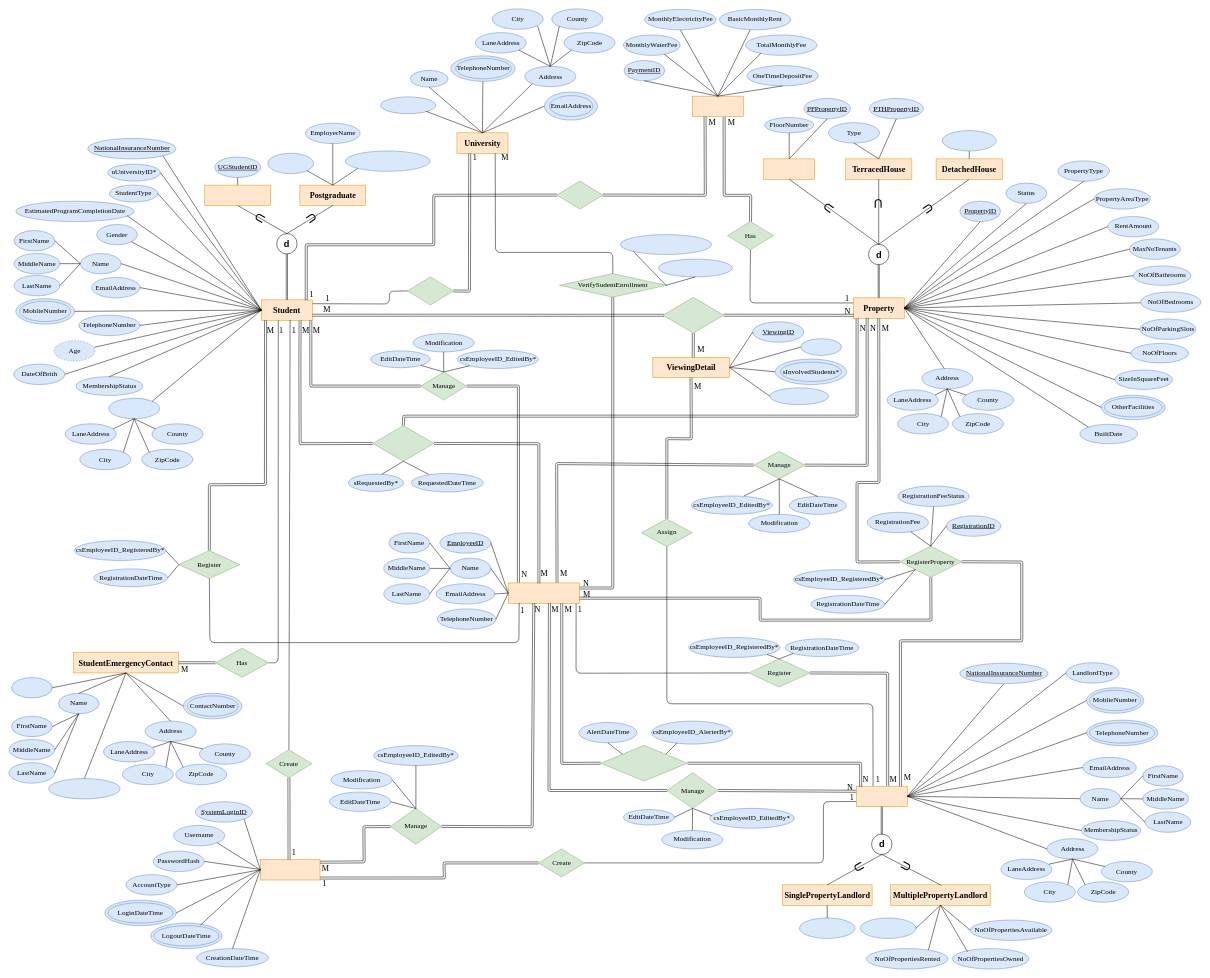
Some shapes in this 1210 by 978 pixel diagram are drawn without their labels. Here are the shapes that lost their labels. From the top down, the centre of each, then its label:
At point (408, 105): "UniversityID".
At point (717, 106): "Payment".
At point (387, 160): "EmployerContactNumber".
At point (969, 140): "PDHPropertyID".
At point (290, 163): "PGStudentID".
At point (789, 168): "Flat".
At point (237, 195): "Undergraduate".
At point (579, 195): "Pay".
At point (666, 244): "csEmployeeID_VerifiedBy*".
At point (695, 268): "VerificationDateTime".
At point (430, 290): "Enrolled".
At point (693, 315): "ViewingProperty".
At point (821, 346): "Date".
At point (134, 408): "CurrentAddress".
At point (798, 396): "lAssignedBy*".
At point (403, 443): "RequestViewing".
At point (544, 592): "CustomerService".
At point (31, 687): "SECID".
At point (643, 763): "AlertViewingRequest".
At point (84, 788): "RelationshipToStudent".
At point (881, 796): "Landlord".
At point (290, 869): "SystemLogin".
At point (827, 927): "SPLandlordID".
At point (888, 927): "MPLandlordID".
